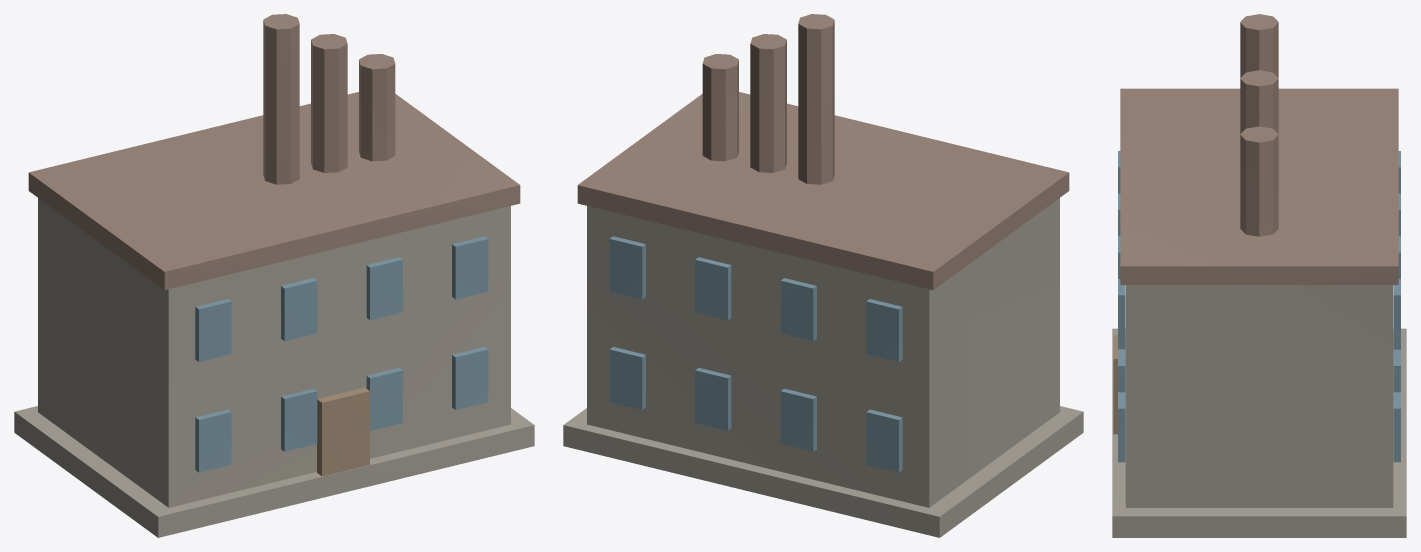
The model's file is factory-02.glb.
3 renders of one model, left to right at view 1: azimuth 30°, elevation 25°; view 2: azimuth 150°, elevation 25°; view 3: azimuth 270°, elevation 25°, orthographic. The views are drawn at different scales.
Visible parts, largest first — view 1: world; view 2: world; view 3: world.
Part boxes in pixels (x1,y1,x2,y2): world: [14, 14, 534, 537]; world: [563, 14, 1083, 537]; world: [1112, 14, 1406, 537].
Size of the model in its own units: 1.5 by 1.58 by 0.99.
